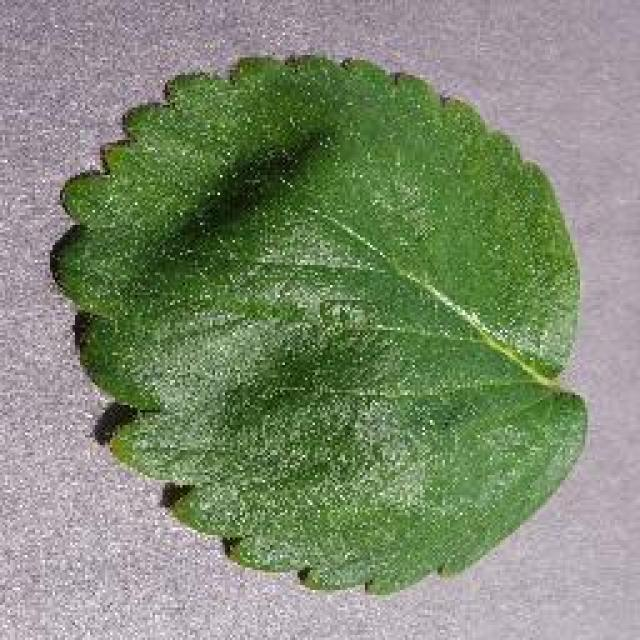Strawberry___healthy: (35, 35, 603, 620)
